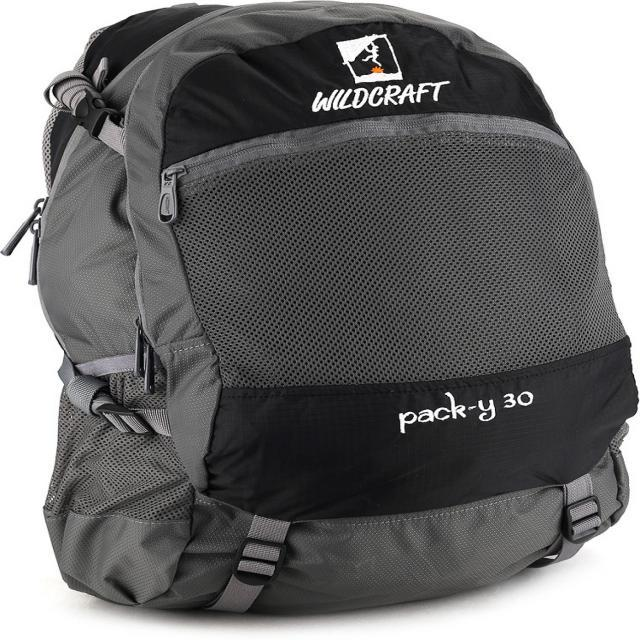Backpacks: (26, 0, 640, 640)
